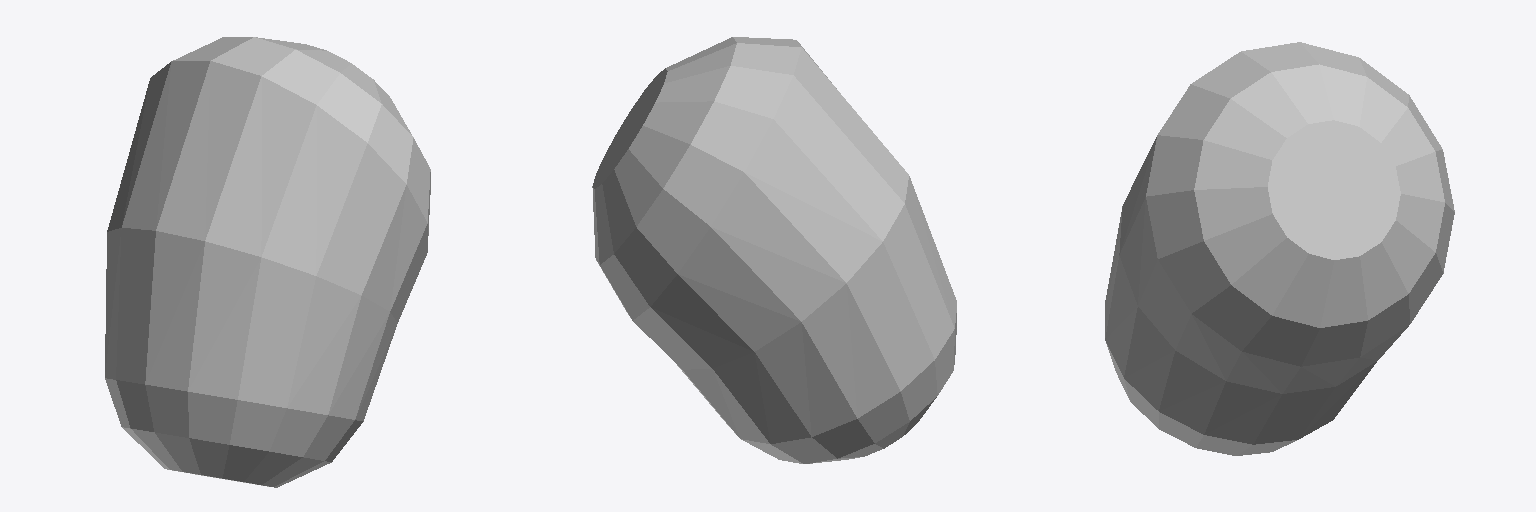
Rendered from LLU.obj.
3 views of the same model, side by side, from view 1: azimuth 30°, elevation 25°; view 2: azimuth 150°, elevation 25°; view 3: azimuth 270°, elevation 25° (orthographic).
Parts seen in each view (by area): view 1: al:uplegR; view 2: al:uplegR; view 3: al:uplegR.
Part boxes in pixels (left/top/right/bottom): al:uplegR: left=105, top=37, right=430, bottom=487; al:uplegR: left=592, top=37, right=956, bottom=463; al:uplegR: left=1105, top=42, right=1454, bottom=455.
Bounding box in the file's own units: 1.1 × 1.38 × 1.09.